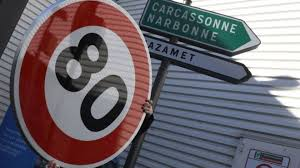sp80: (38, 7, 142, 148)
